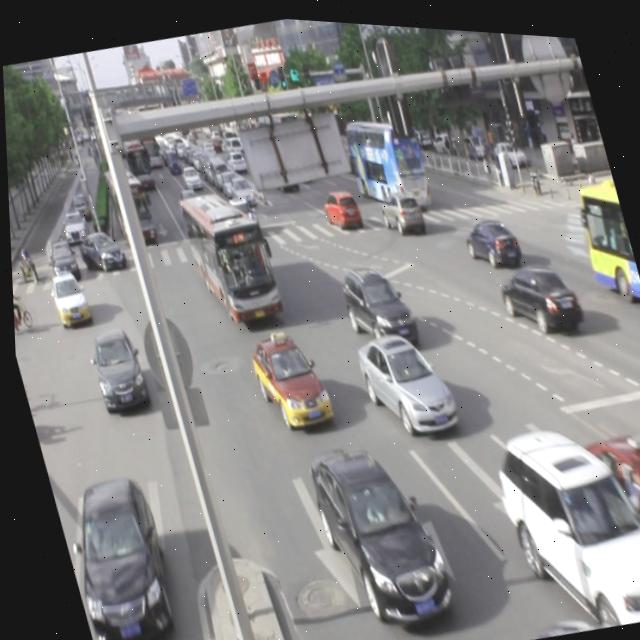car: (479, 392, 640, 638), (298, 424, 453, 631), (49, 463, 180, 640), (349, 318, 457, 438), (574, 408, 640, 595), (241, 320, 331, 430), (490, 245, 585, 340), (333, 252, 417, 351), (81, 321, 149, 416), (456, 205, 521, 269)
van: (176, 181, 282, 329), (566, 169, 640, 300)
